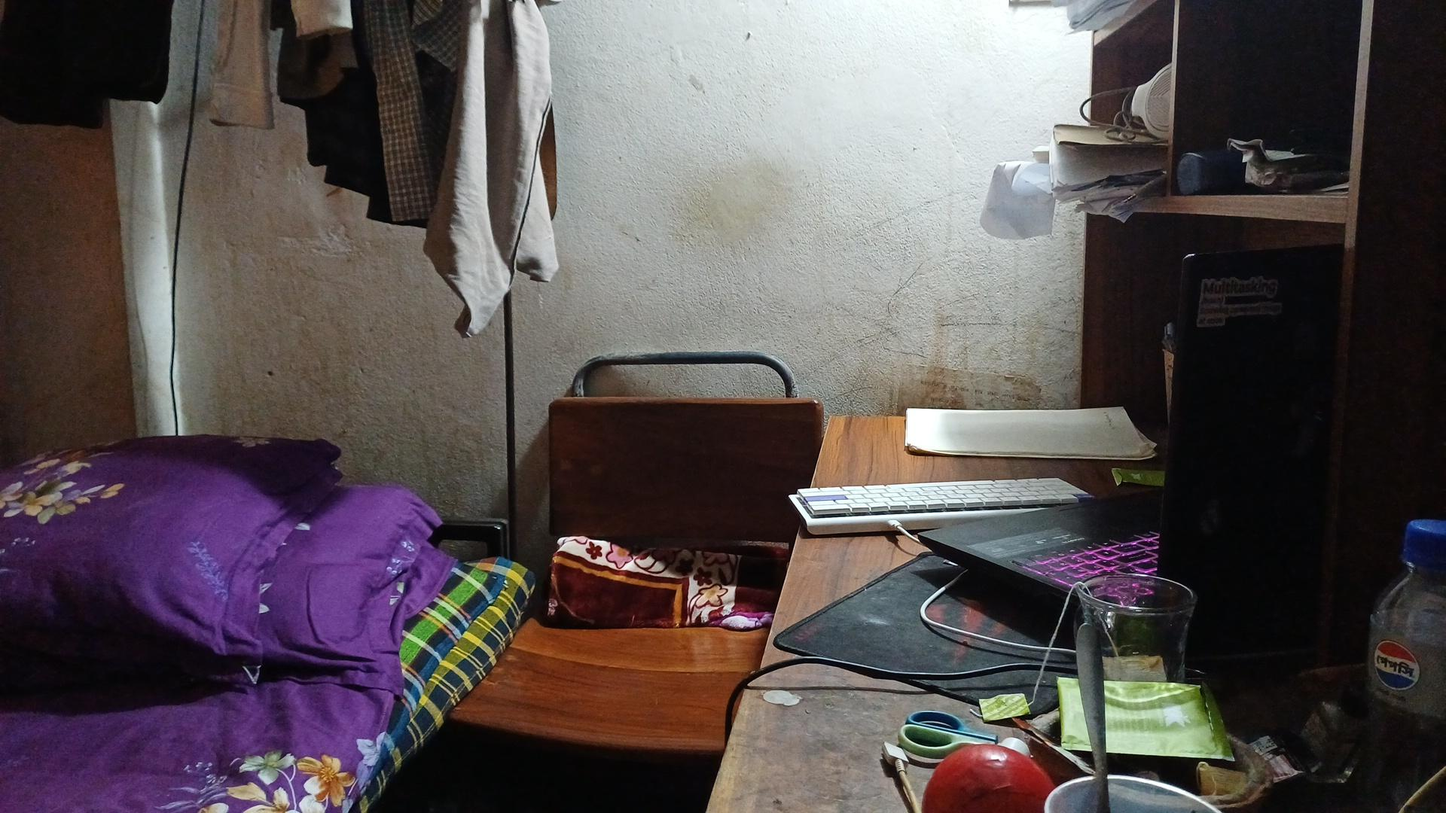Bottle: (1342, 499, 1444, 803)
Chair: (503, 325, 799, 760)
Cup: (1083, 577, 1189, 727)
Keyboard: (783, 453, 1098, 537)
Laptop: (930, 231, 1321, 658)
Pillow: (10, 372, 388, 700)
